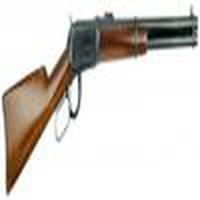gun: (1, 9, 199, 194)
